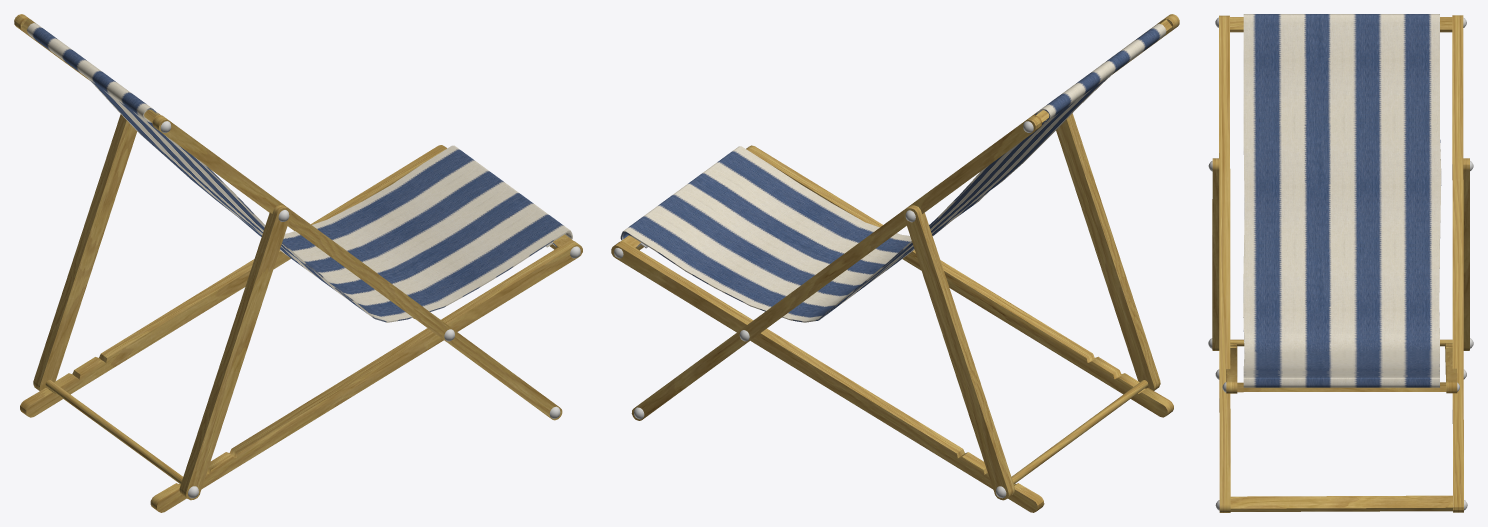
The picture shows the model from 3 angles, left to right: view 1: azimuth 30°, elevation 25°; view 2: azimuth 150°, elevation 25°; view 3: azimuth 270°, elevation 25°; orthographic projection. The views are drawn at different scales.
Visible parts, largest first — view 1: deck chair, Object004_DeckChair_0; view 2: deck chair, Object004_DeckChair_0; view 3: Object004_DeckChair_0, deck chair.
Part boxes in pixels (left/top/right/bottom): deck chair: left=14, top=14, right=582, bottom=512; Object004_DeckChair_0: left=27, top=23, right=572, bottom=322; deck chair: left=611, top=14, right=1179, bottom=512; Object004_DeckChair_0: left=620, top=23, right=1166, bottom=322; Object004_DeckChair_0: left=1243, top=14, right=1441, bottom=387; deck chair: left=1208, top=15, right=1473, bottom=512.
Bounding box in the file's own units: 0.6075 × 0.5368 × 0.3846.
1 material, 1 textured.
